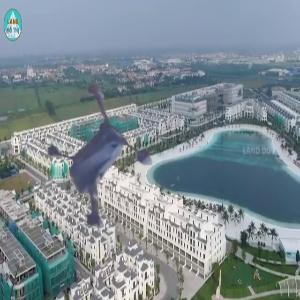drone: (27, 99, 185, 257)
